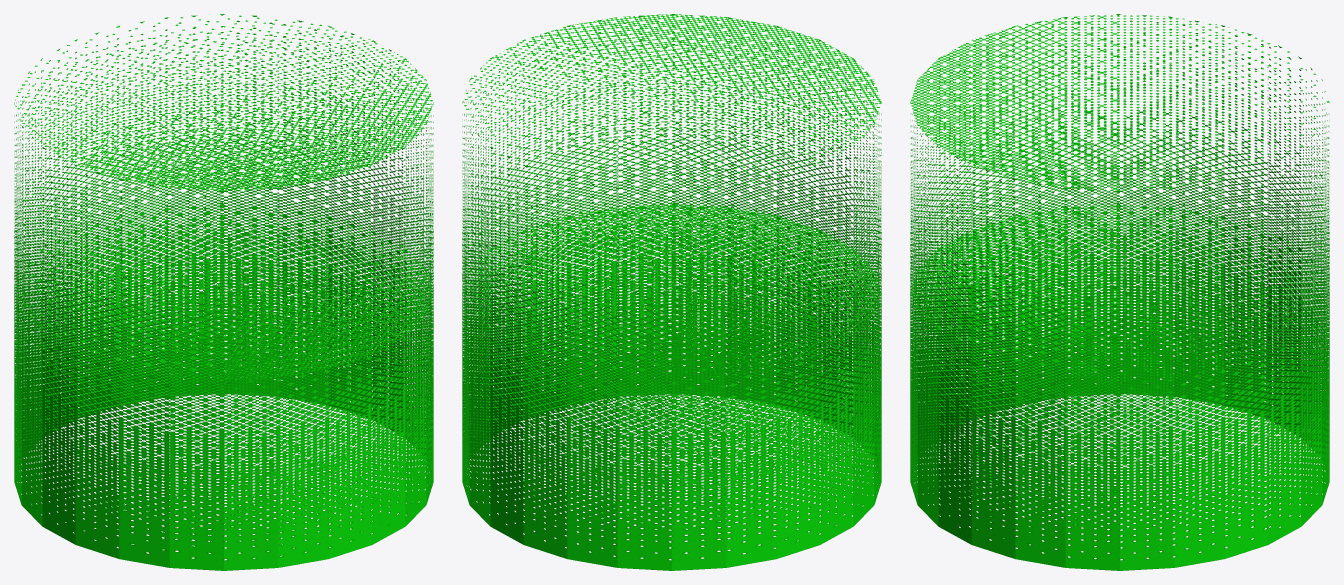
The model's file is switch3.obj.
3 views of the same model, side by side, from view 1: azimuth 30°, elevation 25°; view 2: azimuth 150°, elevation 25°; view 3: azimuth 270°, elevation 25° (orthographic).
Visible parts, largest first — view 1: entity0_brush1, entity0_brush0; view 2: entity0_brush1, entity0_brush0; view 3: entity0_brush1, entity0_brush0.
Boxes of the visible parts, x1,y1,x2,y2 form: entity0_brush1: (14,204,433,570); entity0_brush0: (14,14,433,380); entity0_brush1: (462,204,881,570); entity0_brush0: (462,14,881,380); entity0_brush1: (910,204,1329,570); entity0_brush0: (910,14,1329,380).
Size of the model in its own units: 128 by 128 by 128.
1 material, 1 textured.
